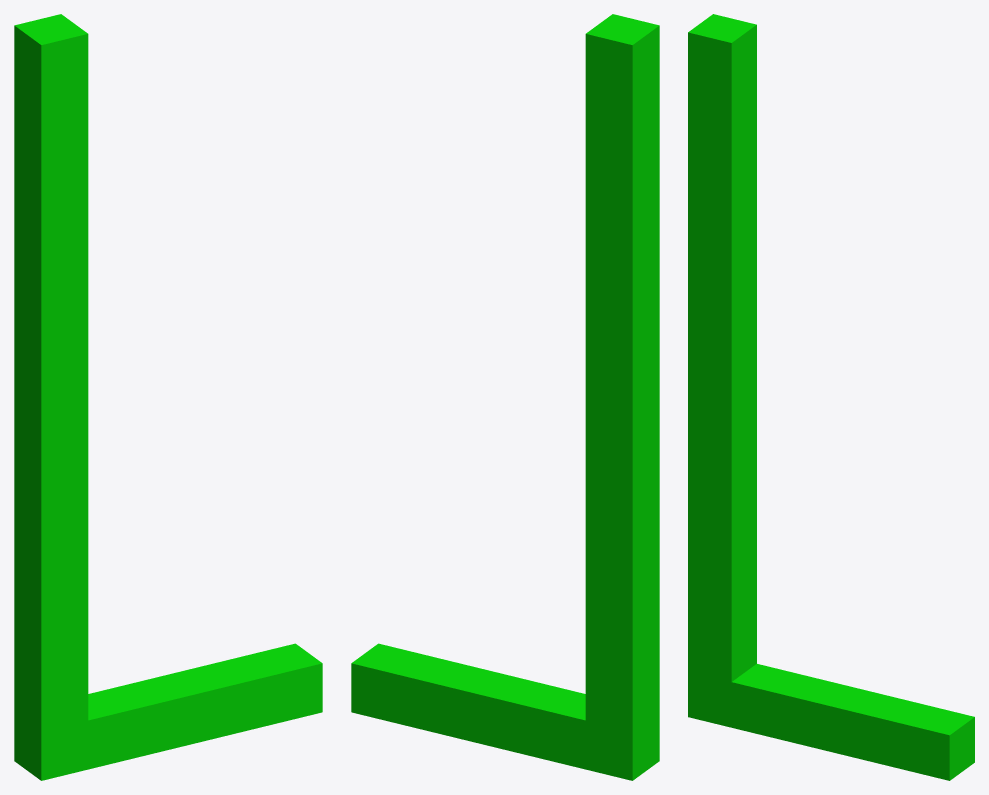
File: R4_deblis5.dae
3 views of the same model, side by side, from view 1: azimuth 30°, elevation 25°; view 2: azimuth 150°, elevation 25°; view 3: azimuth 330°, elevation 25° (orthographic). The views are drawn at different scales.
Visible parts, largest first — view 1: Group1_004; view 2: Group1_004; view 3: Group1_004.
Part boxes in pixels (x1,y1,x2,y2): Group1_004: [14, 14, 322, 780]; Group1_004: [351, 14, 659, 780]; Group1_004: [688, 14, 974, 780].
Bounding box in the file's own units: 0.06 × 0.01 × 0.15.
